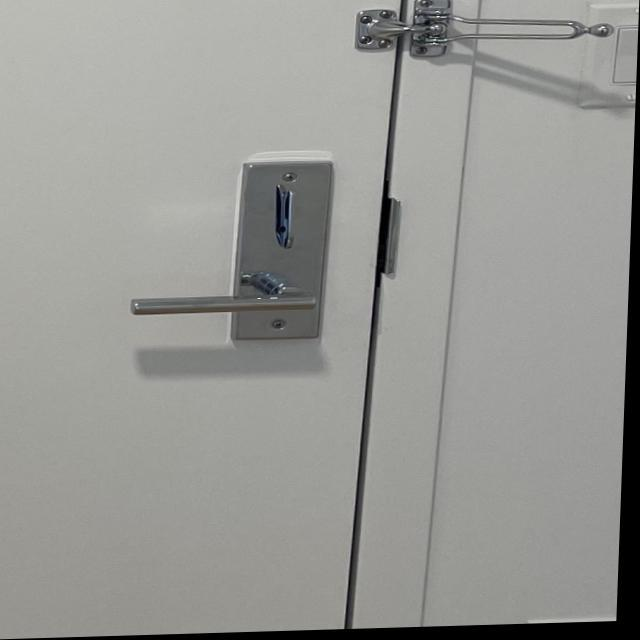door_handle: (120, 260, 356, 344)
